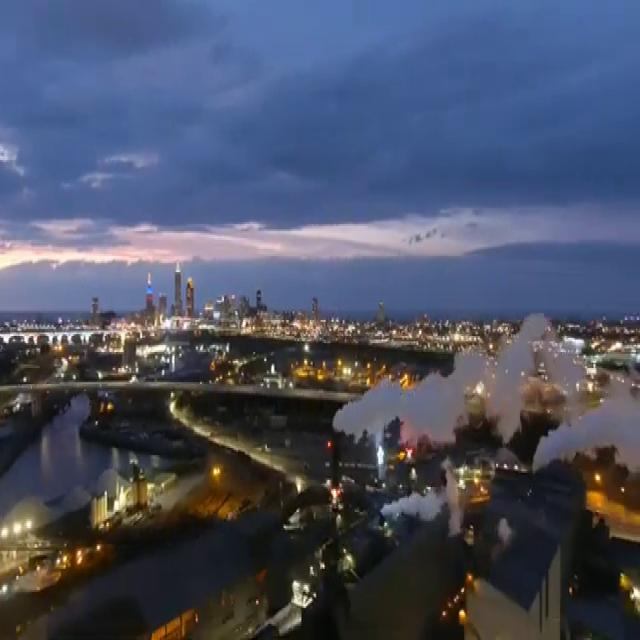smoke: (334, 352, 491, 444), (534, 393, 640, 469), (379, 484, 458, 542)
